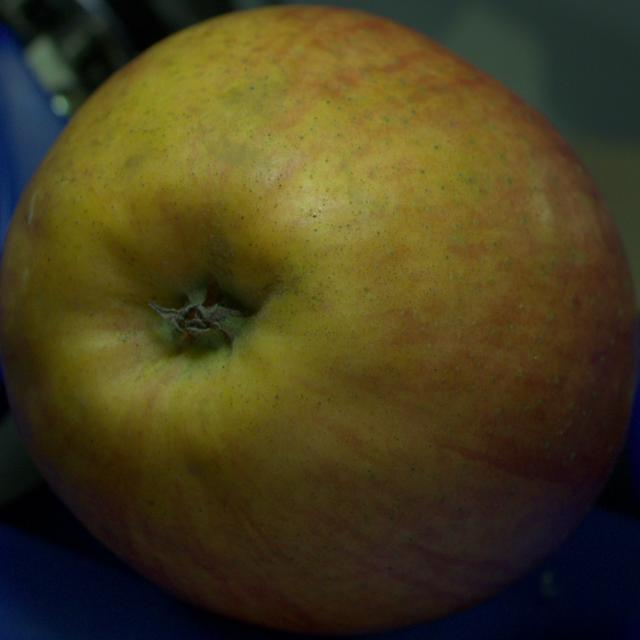apple: (0, 6, 637, 634)
